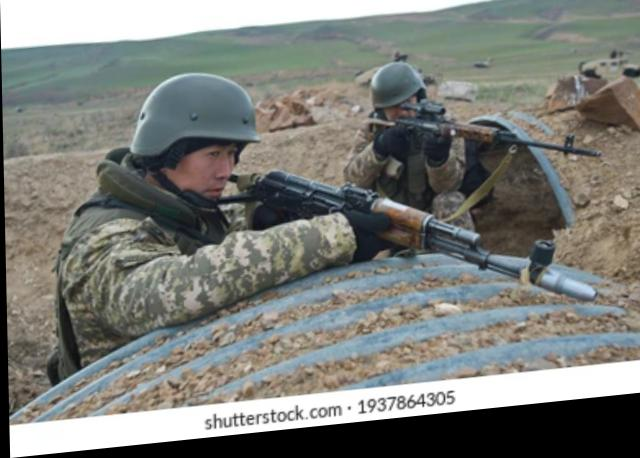other: (57, 73, 279, 315), (354, 63, 468, 219)
